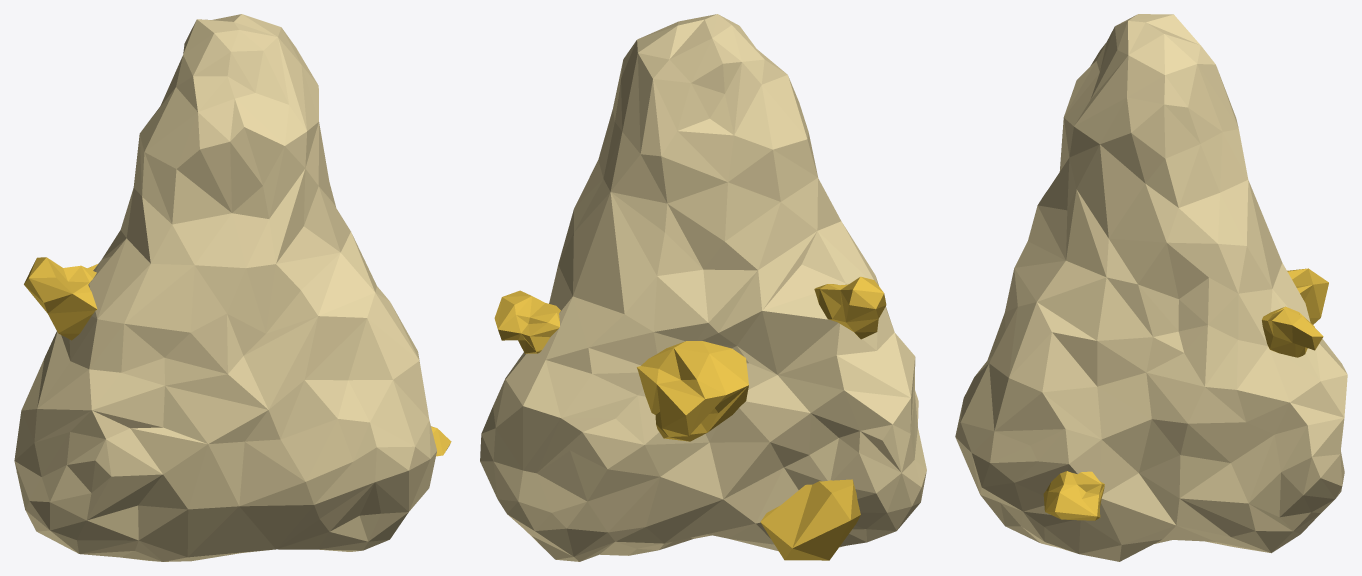
Rendered from MetalOre (61).fbx.
3 renders of one model, left to right at view 1: azimuth 30°, elevation 25°; view 2: azimuth 150°, elevation 25°; view 3: azimuth 270°, elevation 25°, orthographic. The views are drawn at different scales.
Visible parts, largest first — view 1: Asteroid352; view 2: Asteroid352; view 3: Asteroid352.
Part boxes in pixels (x1=…): Asteroid352: x1=14, y1=14, x2=451, y2=561; Asteroid352: x1=480, y1=14, x2=926, y2=561; Asteroid352: x1=955, y1=14, x2=1347, y2=561.
Size of the model in its own units: 322 by 422 by 297.
